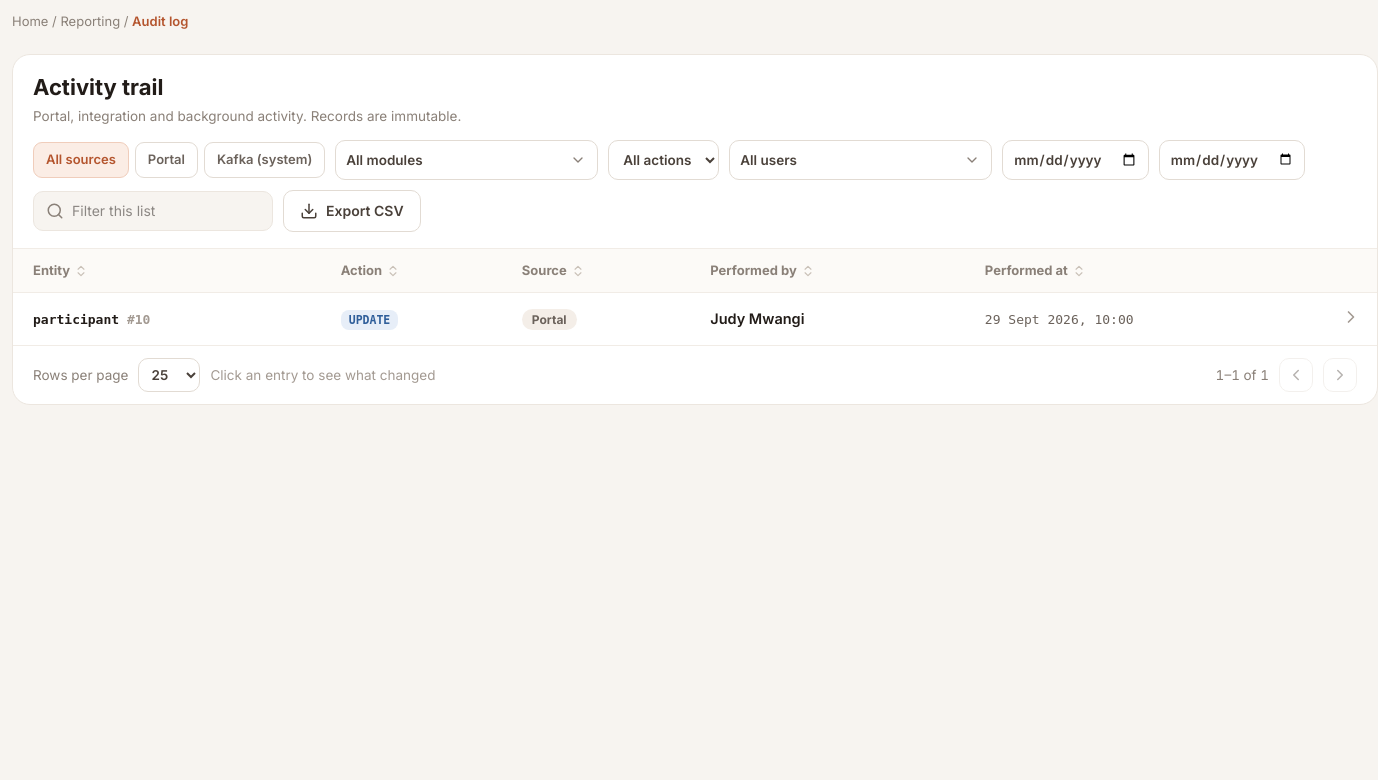
audit screen › expands an entry in place and keeps export beside the heading
Expected: the button "Export CSV" is shown, [283, 190, 421, 232]
Expected: the text "input_payload" is not shown
Click the cell "Judy Mwangi". click: (757, 319)
box: [696, 293, 971, 345]
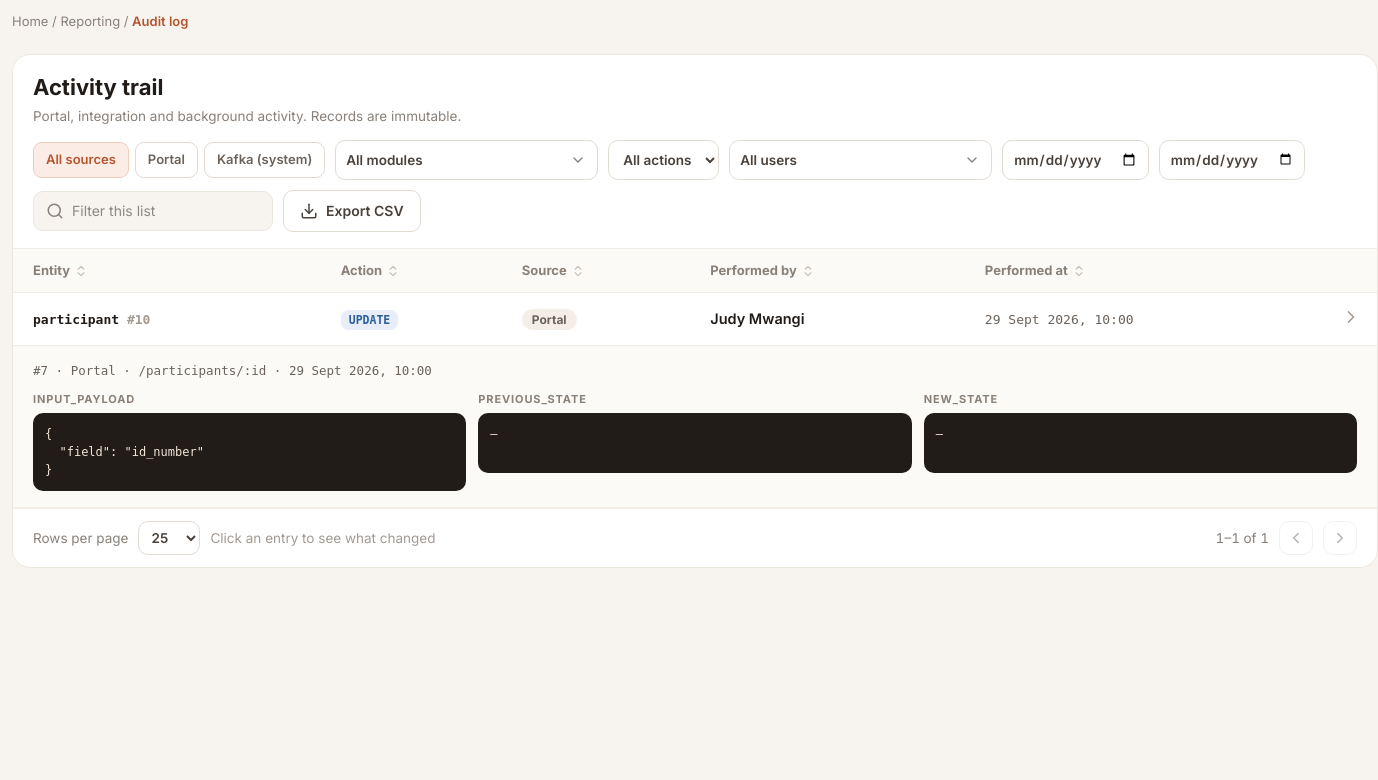
Expected: the text "input_payload" is shown, [33, 392, 135, 406]
Expected: the text "{ \"field\": \"id_number\" }" is shown, [33, 413, 466, 491]
Expected: the text "#7 · Portal · /participants/:id · 29 Sept 2026, 10:00" is shown, [33, 363, 432, 378]
